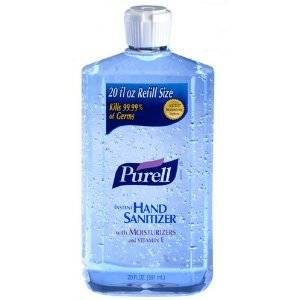Sanitizer: (74, 3, 219, 299)
